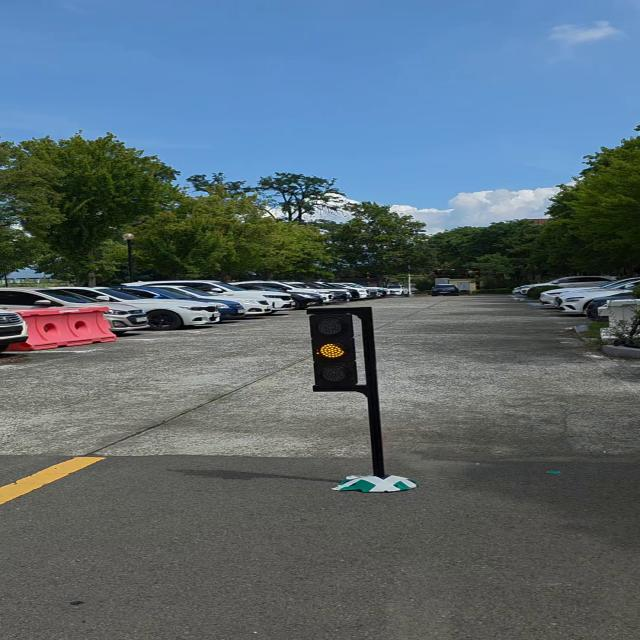yellow: (307, 308, 367, 392)
